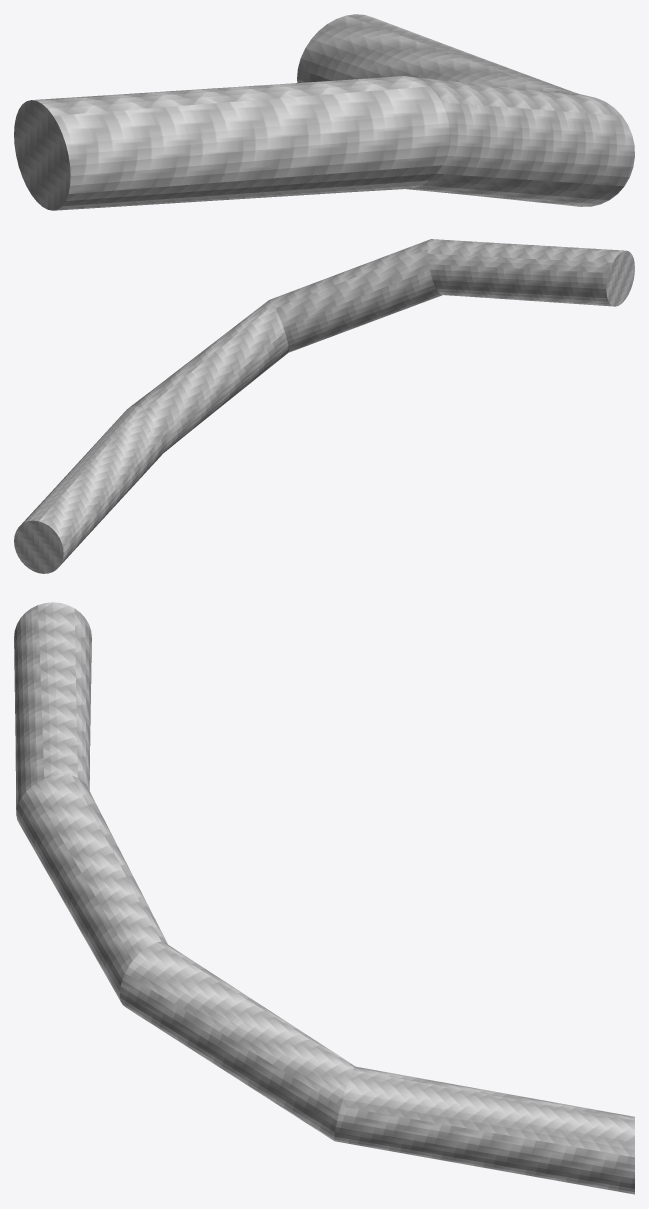
The model's file is cable_bend.fbx.
3 renders of one model, top to bottom at view 1: azimuth 30°, elevation 25°; view 2: azimuth 150°, elevation 25°; view 3: azimuth 270°, elevation 25°, orthographic. The views are drawn at different scales.
Visible parts, largest first — view 1: Cable.000, Cable.003, Cable.001; view 2: Cable.000, Cable.001, Cable.003, Cable.002; view 3: Cable.001, Cable.002, Cable.003, Cable.000.
Boxes of the visible parts, box(x1,y1,x2,y2) form: Cable.000: box(14, 76, 449, 210); Cable.003: box(406, 76, 634, 206); Cable.001: box(297, 14, 573, 92); Cable.000: box(427, 239, 634, 306); Cable.001: box(14, 406, 166, 573); Cable.003: box(270, 239, 442, 352); Cable.002: box(129, 300, 288, 452); Cable.001: box(334, 1066, 634, 1194); Cable.002: box(119, 941, 355, 1140); Cable.003: box(16, 775, 167, 1001); Cable.000: box(14, 602, 91, 810).
Bounding box in the file's own units: 640 × 395 × 644.
